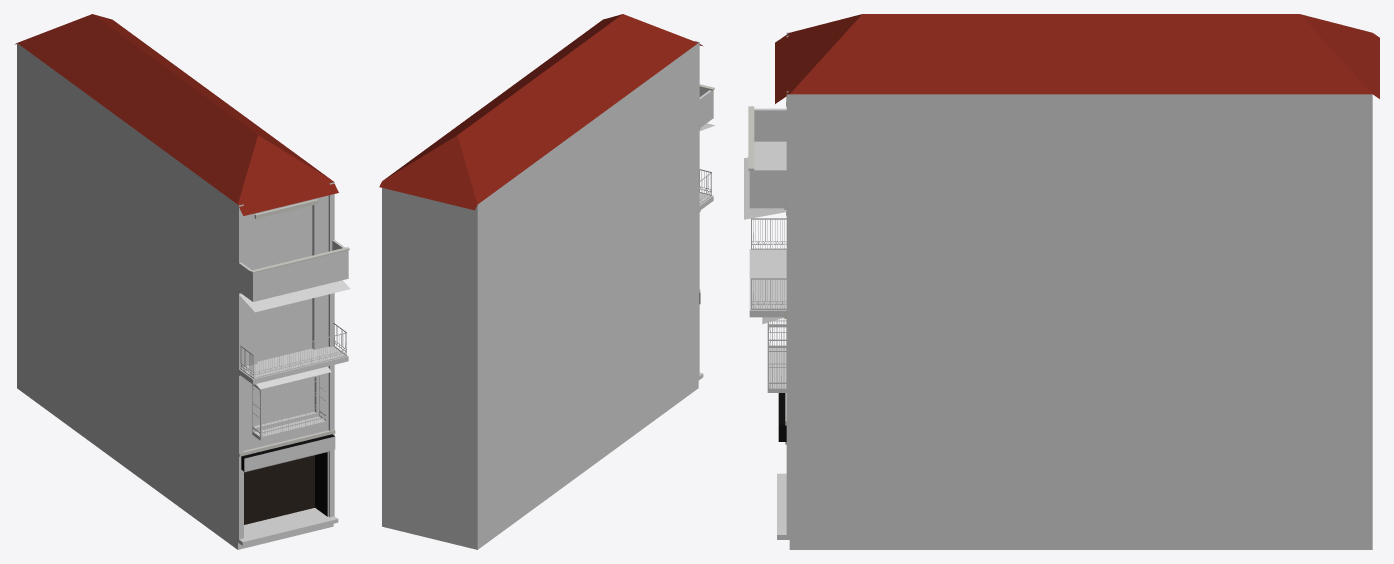
The picture shows the model from 3 angles, left to right: view 1: azimuth 30°, elevation 25°; view 2: azimuth 150°, elevation 25°; view 3: azimuth 270°, elevation 25°; orthographic projection. The views are drawn at different scales.
Parts seen in each view (by area): view 1: TH_D16_C_02_LOD0; view 2: TH_D16_C_02_LOD0; view 3: TH_D16_C_02_LOD0.
Part boxes in pixels (x1,y1,x2,y2): TH_D16_C_02_LOD0: [15, 14, 350, 549]; TH_D16_C_02_LOD0: [379, 14, 715, 549]; TH_D16_C_02_LOD0: [744, 14, 1379, 549].
Size of what is drawn, in the model's own units: 4.06 by 15.3 by 17.45.
